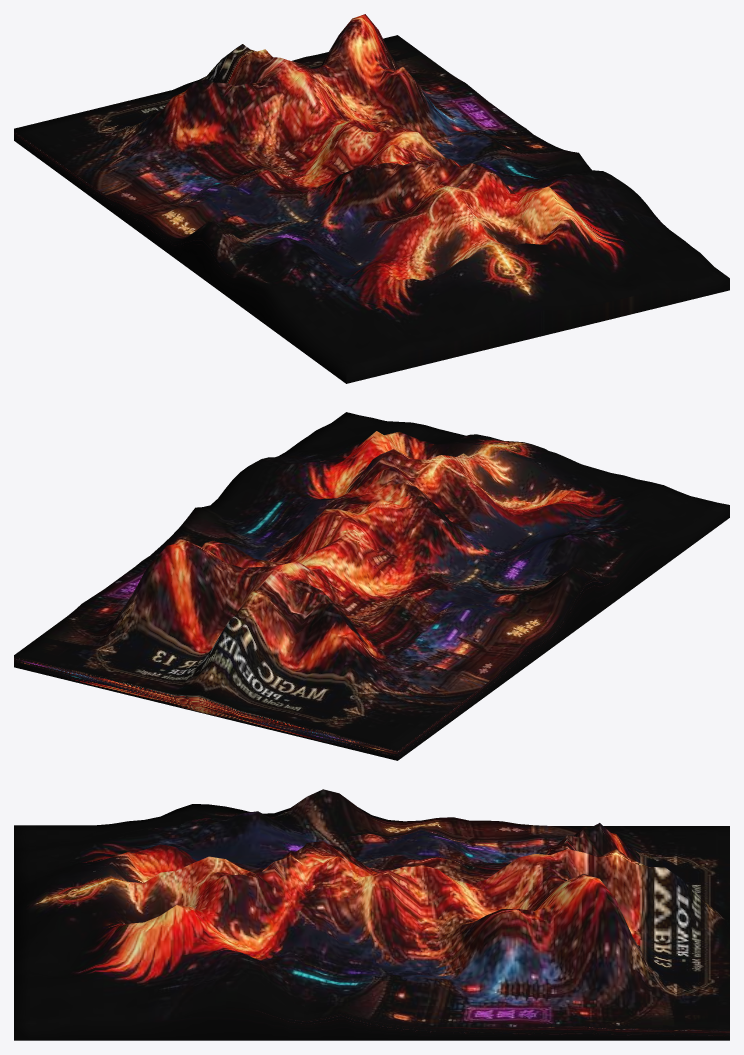
File: TOWER_13_Phoenix_Tower.glb
The picture shows the model from 3 angles, top to bottom: view 1: azimuth 30°, elevation 25°; view 2: azimuth 150°, elevation 25°; view 3: azimuth 270°, elevation 25°; orthographic projection. The views are drawn at different scales.
Parts seen in each view (by area): view 1: TOWER_13_Phoenix_Tower; view 2: TOWER_13_Phoenix_Tower; view 3: TOWER_13_Phoenix_Tower.
Part boxes in pixels (<box>): TOWER_13_Phoenix_Tower: <box>14,14,729,383</box>; TOWER_13_Phoenix_Tower: <box>14,412,729,760</box>; TOWER_13_Phoenix_Tower: <box>14,789,729,1040</box>.
Size of the model in its own units: 2 by 0.51 by 3.
Materials: 1 (1 with a texture image).
